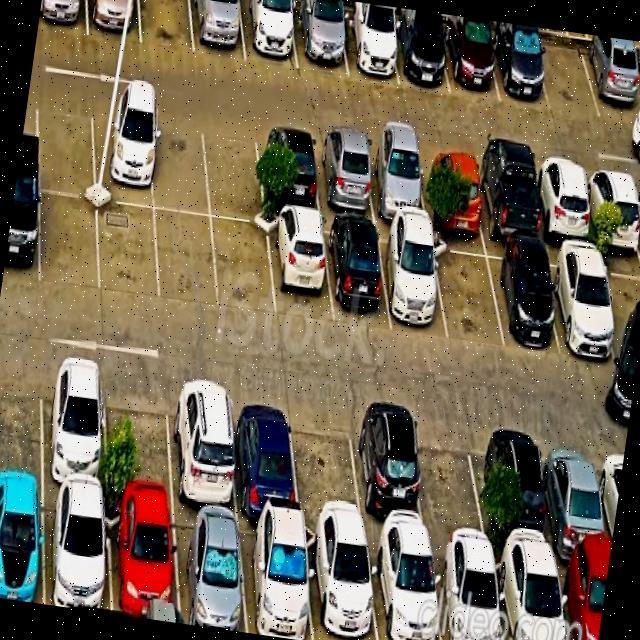empty: (416, 412, 489, 550), (291, 398, 364, 533), (105, 368, 174, 506), (432, 237, 504, 347), (202, 118, 265, 224), (92, 102, 154, 208), (155, 210, 219, 308), (151, 111, 210, 215), (99, 201, 159, 303), (212, 220, 275, 317), (37, 93, 95, 197), (41, 192, 100, 292), (0, 353, 42, 484), (535, 35, 600, 118), (600, 252, 640, 368), (139, 0, 194, 53)
occupied: (350, 406, 429, 541), (169, 378, 238, 515), (230, 387, 300, 521), (172, 508, 247, 633), (542, 428, 611, 563), (107, 499, 180, 623), (239, 518, 313, 640), (489, 420, 555, 556), (42, 357, 107, 495), (44, 489, 112, 614), (544, 246, 618, 360), (305, 526, 378, 640), (485, 243, 559, 349), (378, 227, 448, 339), (367, 538, 442, 640), (324, 219, 391, 327), (268, 212, 333, 323), (431, 543, 504, 640), (494, 551, 566, 640), (474, 154, 541, 243), (256, 126, 321, 214), (419, 147, 484, 234), (364, 139, 428, 224), (313, 133, 376, 219), (533, 160, 595, 245), (0, 484, 43, 604), (490, 25, 550, 110), (580, 40, 640, 123), (441, 19, 500, 101), (584, 165, 640, 250), (389, 17, 450, 93), (339, 9, 399, 84), (555, 557, 609, 640), (292, 2, 348, 75), (239, 0, 298, 69), (2, 183, 40, 285), (190, 0, 246, 62), (87, 0, 141, 43), (38, 0, 88, 35)
